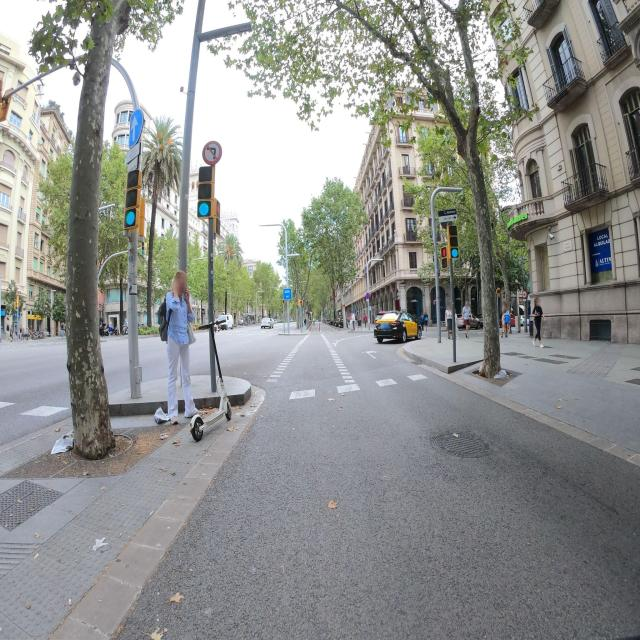forb_stopping: (366, 293, 370, 299)
